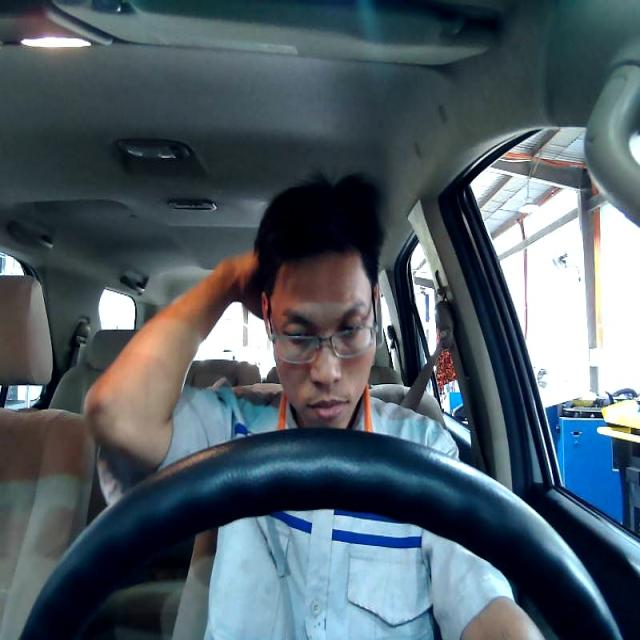focused: (260, 250, 377, 428)
